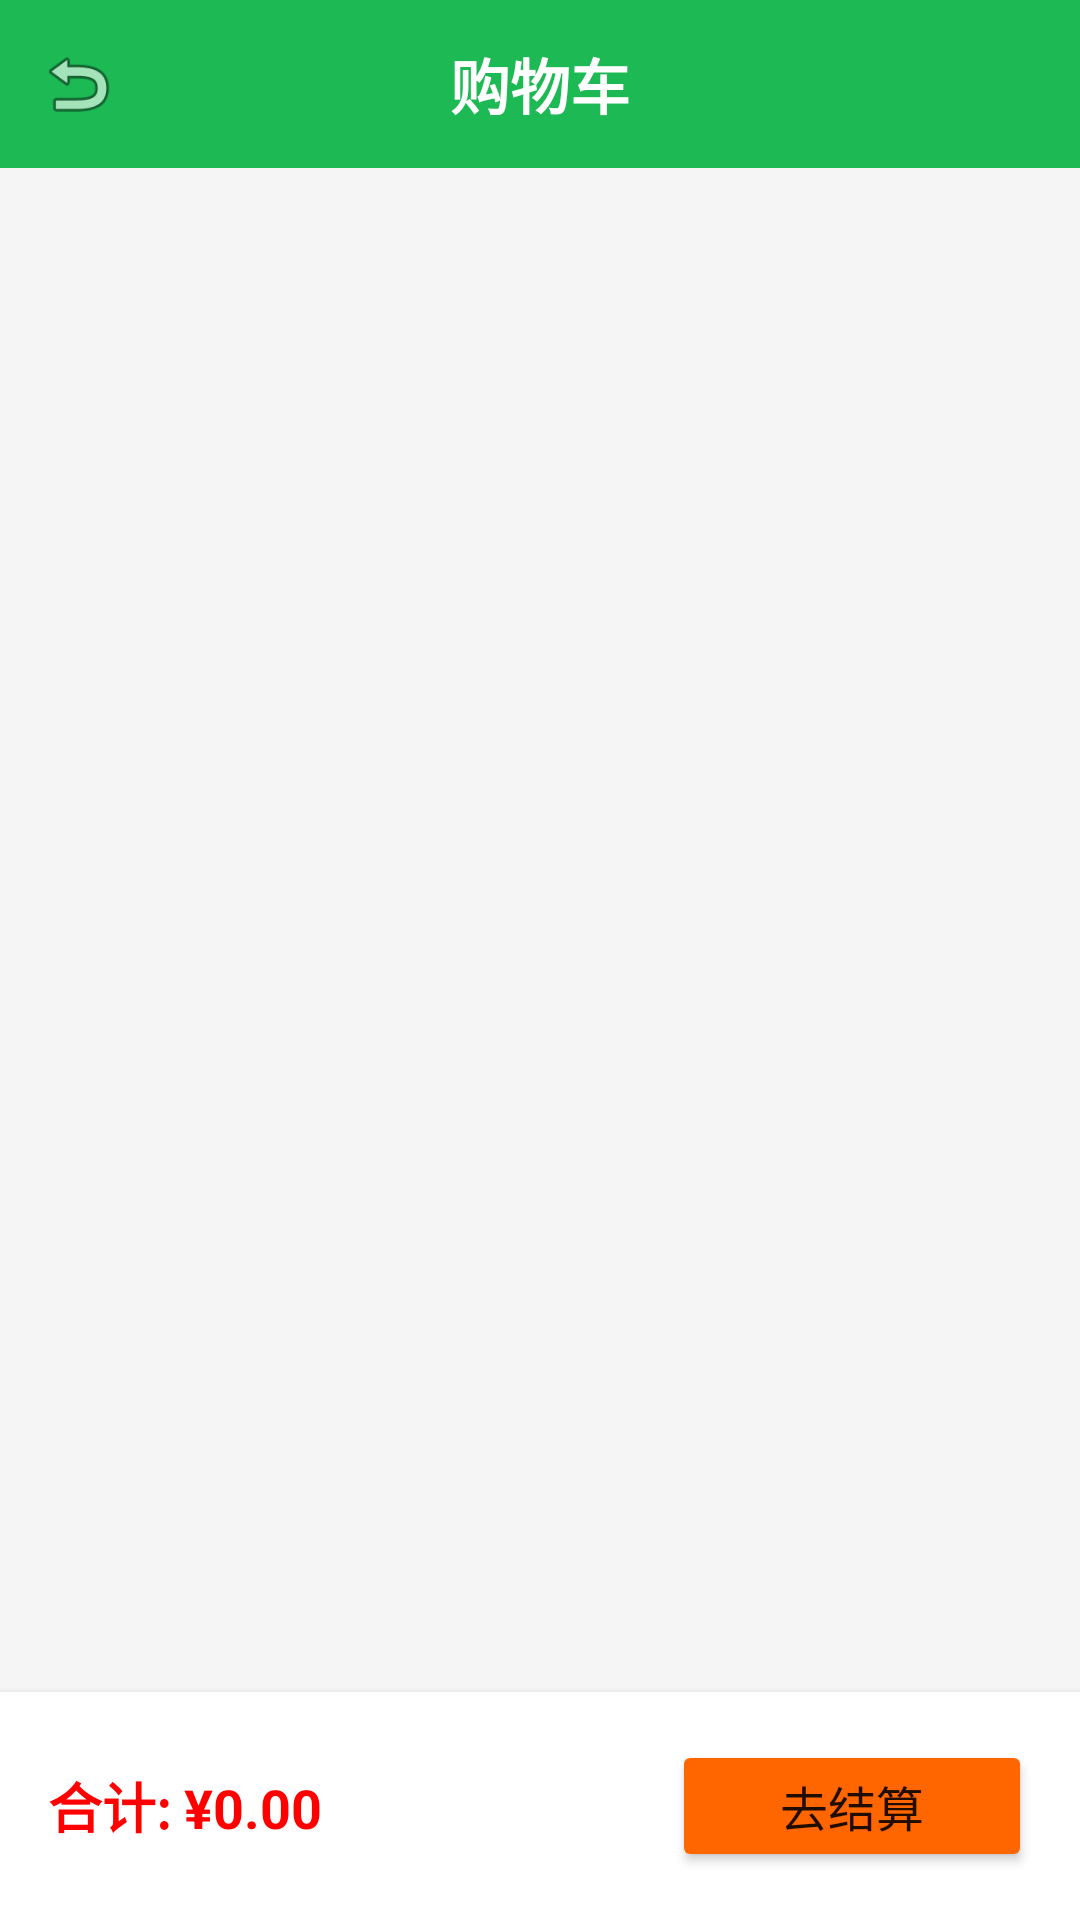

Screen size 1080 × 1920. Icon name, then its box in pixels as {"left": x1, "top": y1, "right": x2, "bottom": y2}:
revert: {"left": 49, "top": 57, "right": 109, "bottom": 112}
